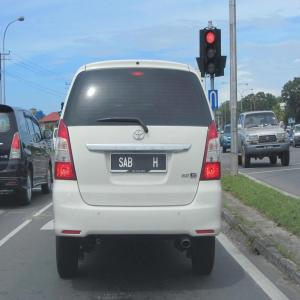Vehicle-registration-plate: (112, 151, 168, 175), (266, 146, 275, 152)
